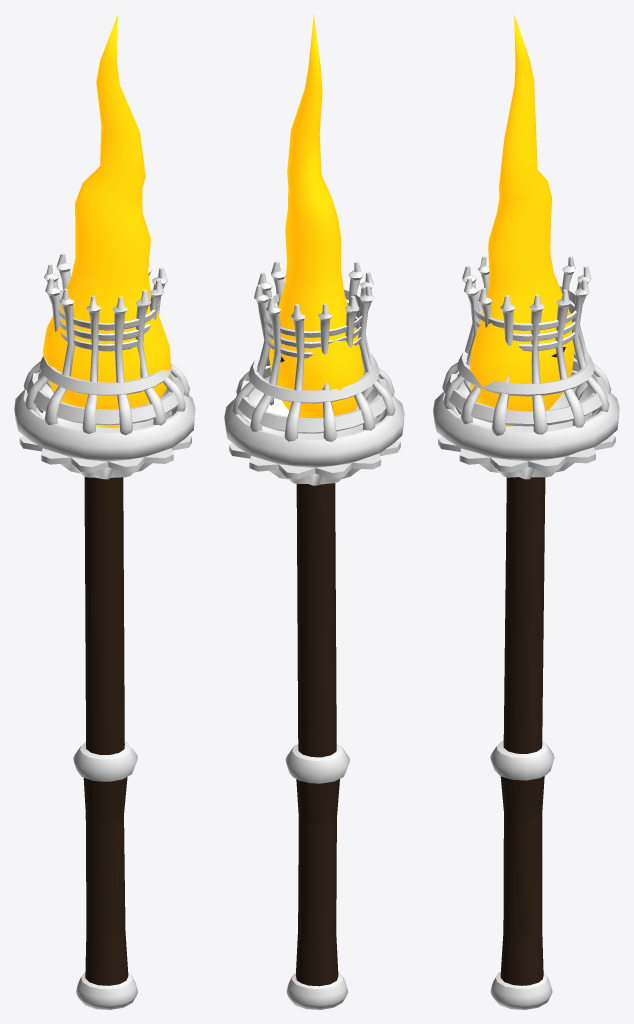
The model's file is ant.glb.
The picture shows the model from 3 angles, left to right: view 1: azimuth 30°, elevation 25°; view 2: azimuth 150°, elevation 25°; view 3: azimuth 270°, elevation 25°; orthographic projection.
Visible parts, largest first — view 1: torche_metallic_clean, torche_fire_flame, torche_wood_leather; view 2: torche_metallic_clean, torche_wood_leather, torche_fire_flame; view 3: torche_metallic_clean, torche_wood_leather, torche_fire_flame.
Boxes of the visible parts, x1,y1,x2,y2 form: torche_metallic_clean: [14, 253, 195, 1009]; torche_fire_flame: [43, 14, 170, 428]; torche_wood_leather: [83, 477, 128, 985]; torche_metallic_clean: [224, 261, 404, 1009]; torche_wood_leather: [274, 351, 339, 986]; torche_fire_flame: [269, 14, 363, 418]; torche_metallic_clean: [433, 256, 619, 1009]; torche_wood_leather: [500, 347, 565, 985]; torche_fire_flame: [470, 14, 574, 426].
Size of the model in its own units: 1.99 by 12.06 by 2.06.
